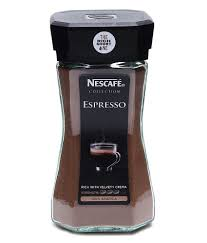nescafe-classic/gold-med: (46, 9, 160, 234)
